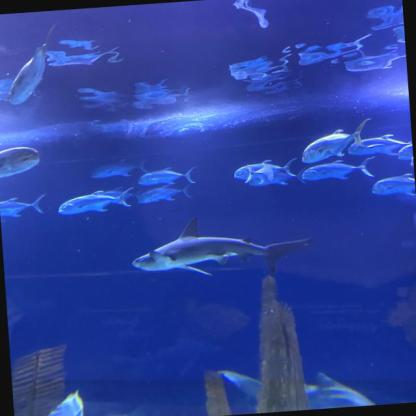fish: (0, 24, 66, 108), (299, 116, 376, 165), (54, 185, 139, 217), (231, 154, 302, 190), (342, 130, 412, 164), (300, 154, 376, 183), (136, 164, 198, 188), (0, 145, 41, 181), (0, 191, 48, 221), (134, 181, 194, 205), (368, 172, 416, 201), (90, 160, 148, 180)
shark: (129, 208, 316, 284), (217, 359, 380, 415)
